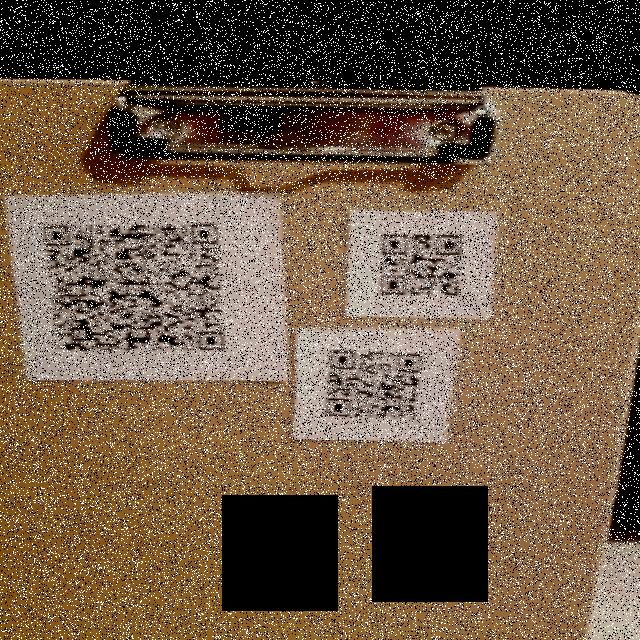QR_CODE: (24, 208, 238, 368), (311, 338, 440, 432), (366, 222, 472, 310)
